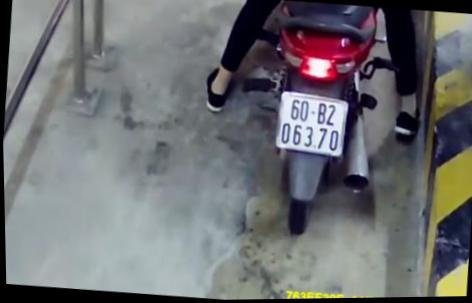LP: (274, 90, 351, 159)
